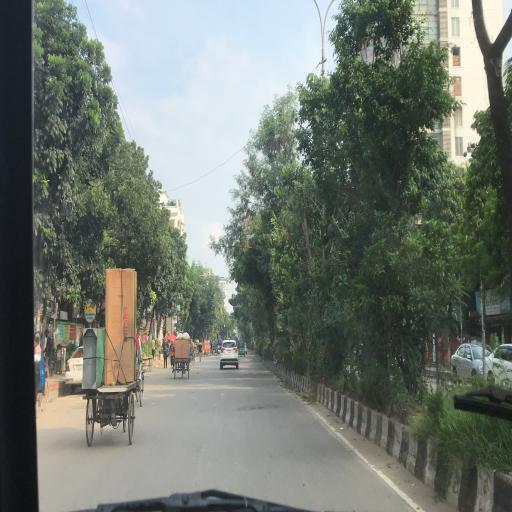car: (450, 345, 486, 385), (66, 346, 83, 395)
rickshaw: (192, 341, 197, 367), (212, 341, 217, 357), (197, 340, 201, 358), (218, 339, 221, 358)
suv: (221, 340, 239, 371)
three wheelers (CNG): (239, 340, 246, 358)
wheelbarrow: (84, 388, 137, 451), (175, 359, 191, 381), (144, 356, 154, 374)
